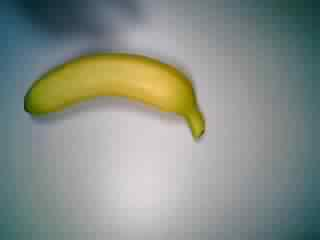banana: (22, 51, 209, 145)
